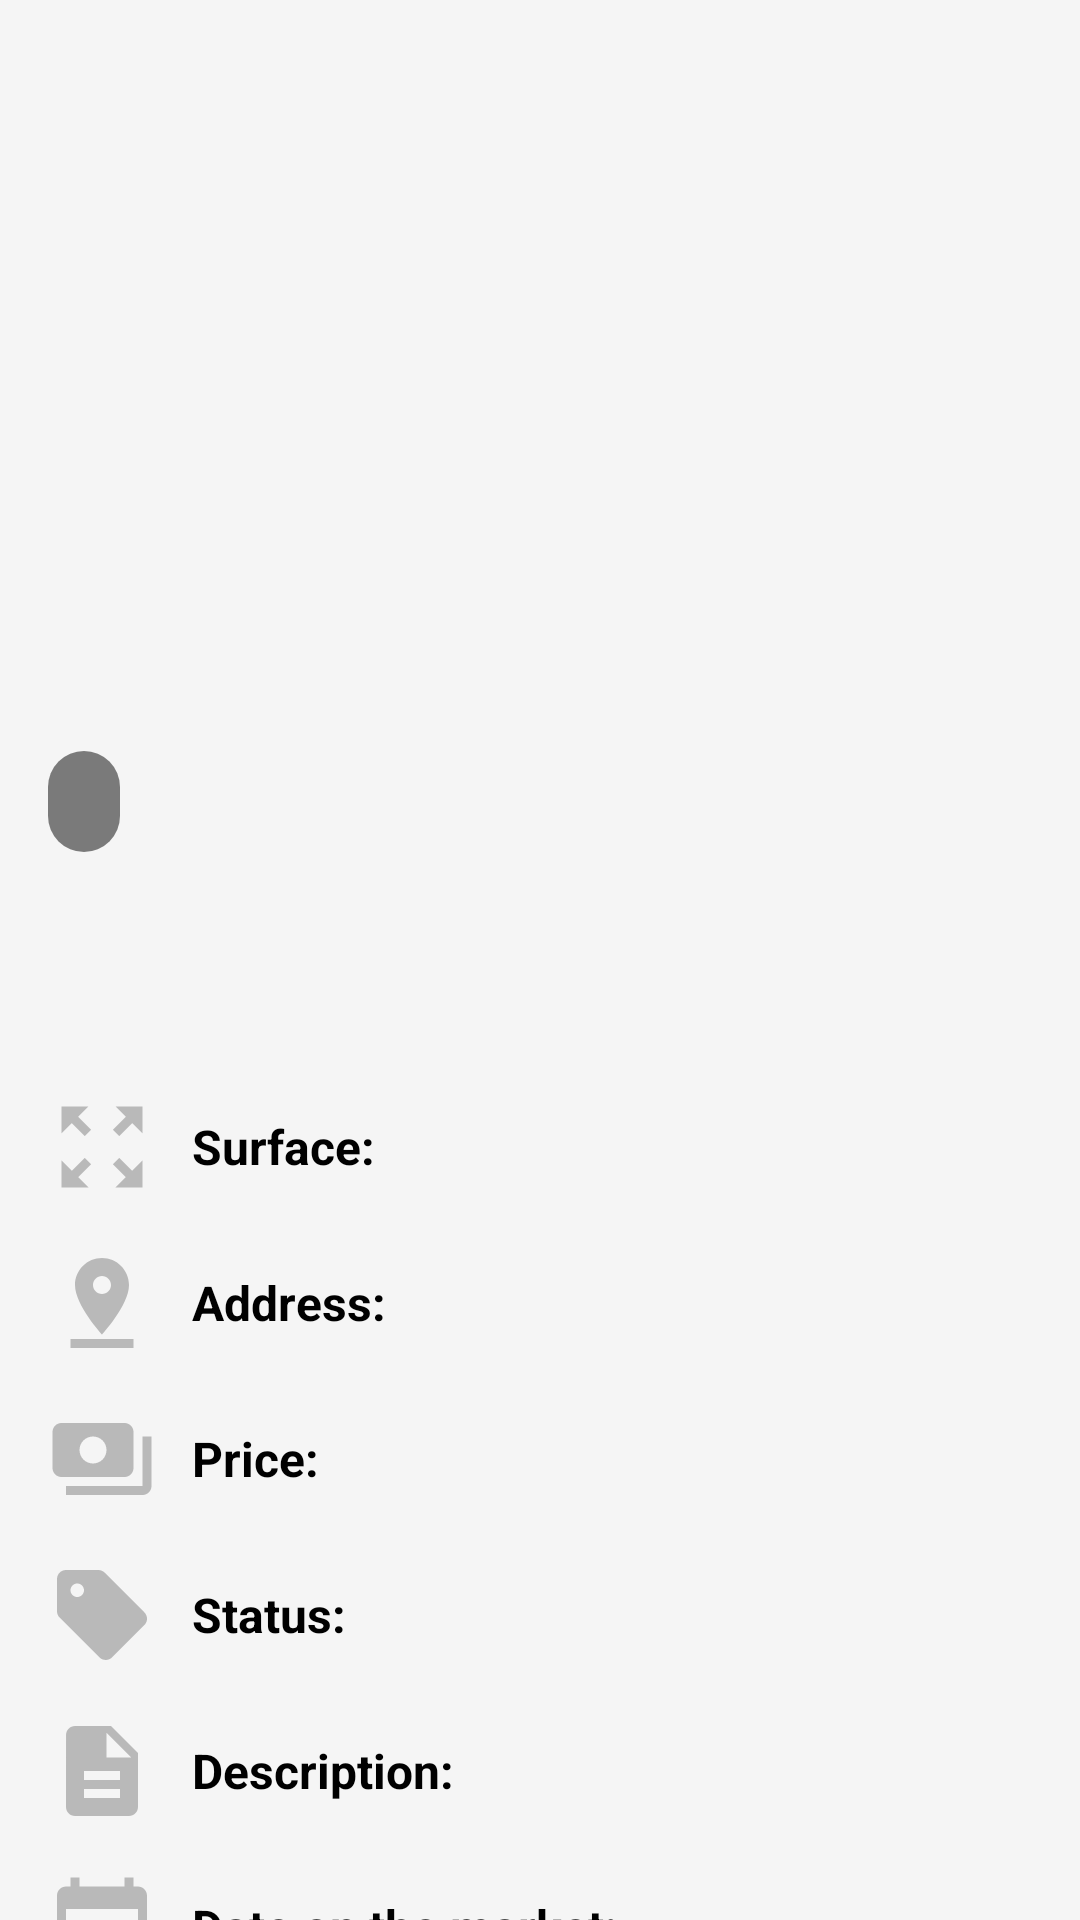

Where to tap for icons on this 1080×1920 app screen, as point (x, y):
location: point (102, 1303)
sell: point (102, 1615)
